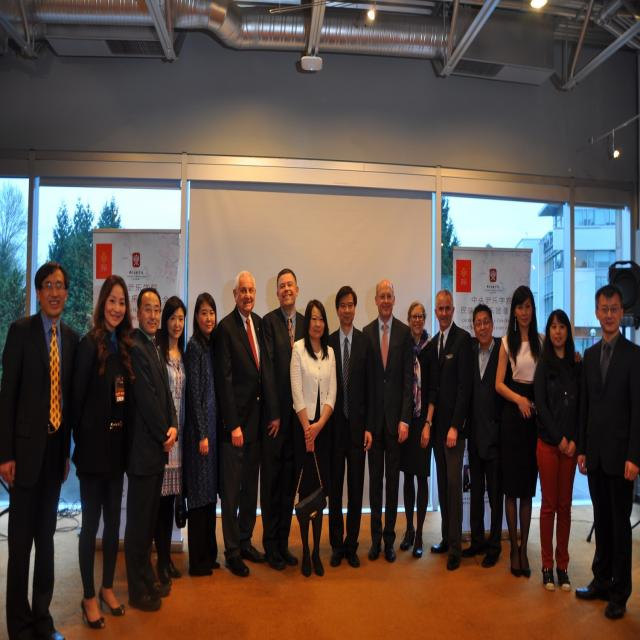body: (0, 258, 80, 640), (492, 282, 584, 580), (68, 274, 133, 632), (574, 282, 639, 622), (124, 285, 179, 615), (214, 269, 270, 577), (530, 307, 589, 593), (259, 265, 311, 574), (360, 278, 415, 564), (322, 283, 374, 569), (288, 298, 338, 580), (427, 287, 475, 572), (180, 288, 224, 580), (459, 304, 506, 570), (153, 294, 189, 588), (399, 300, 432, 560)
